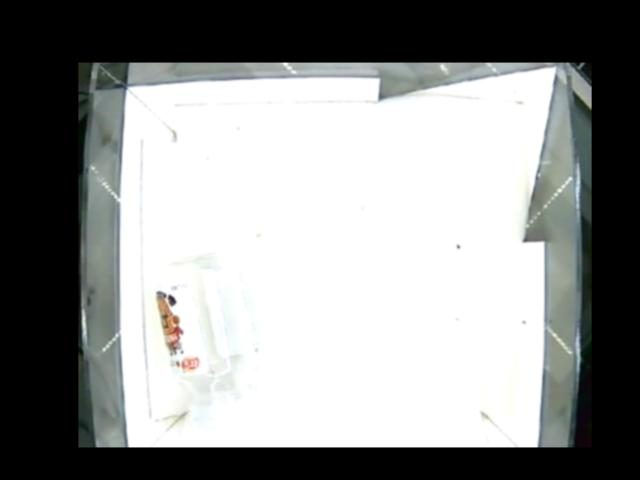Bottle: (153, 246, 266, 433)
